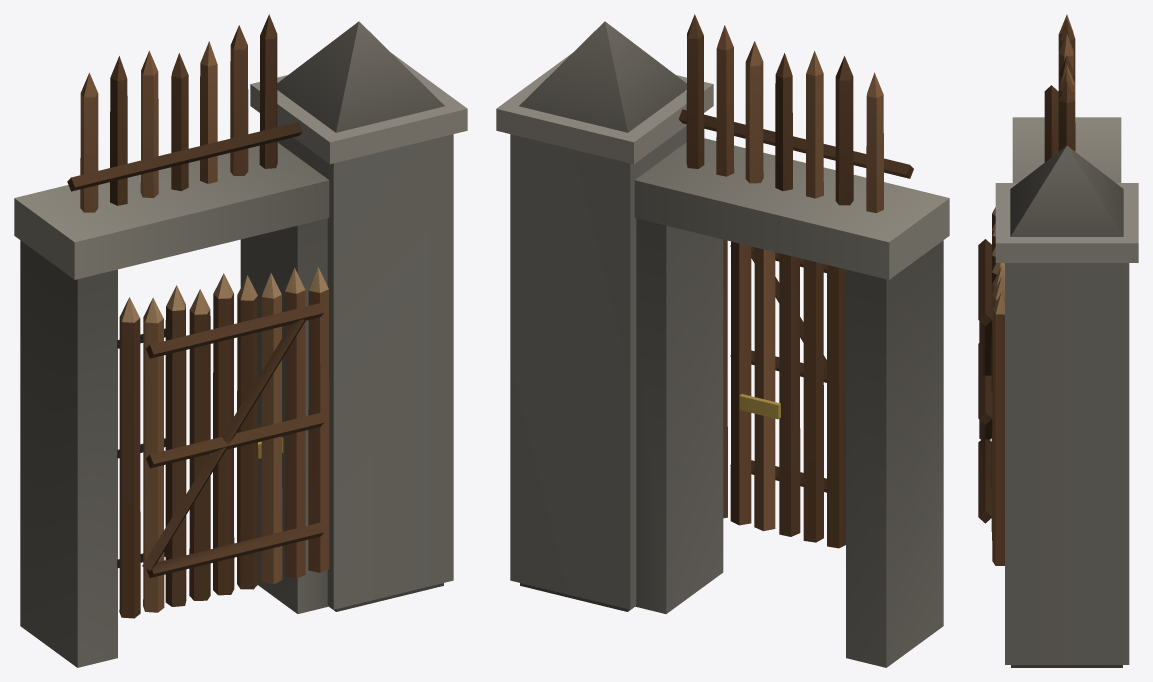
File: fence_wicket_stone_low.glb
The picture shows the model from 3 angles, left to right: view 1: azimuth 30°, elevation 25°; view 2: azimuth 150°, elevation 25°; view 3: azimuth 270°, elevation 25°; orthographic projection. The views are drawn at different scales.
Parts seen in each view (by area): view 1: fence_wicket_stone, side; view 2: fence_wicket_stone, side; view 3: fence_wicket_stone, side.
Part boxes in pixels (bbox=[...]): fence_wicket_stone: bbox=[14, 14, 467, 667]; side: bbox=[117, 267, 329, 618]; fence_wicket_stone: bbox=[496, 14, 949, 667]; side: bbox=[723, 239, 845, 548]; fence_wicket_stone: bbox=[995, 14, 1138, 667]; side: bbox=[978, 207, 1004, 565].
Bounding box in the file's own units: 2.56 × 3.73 × 1.03.
